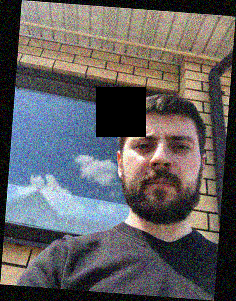without_mask: (124, 128, 201, 225)
